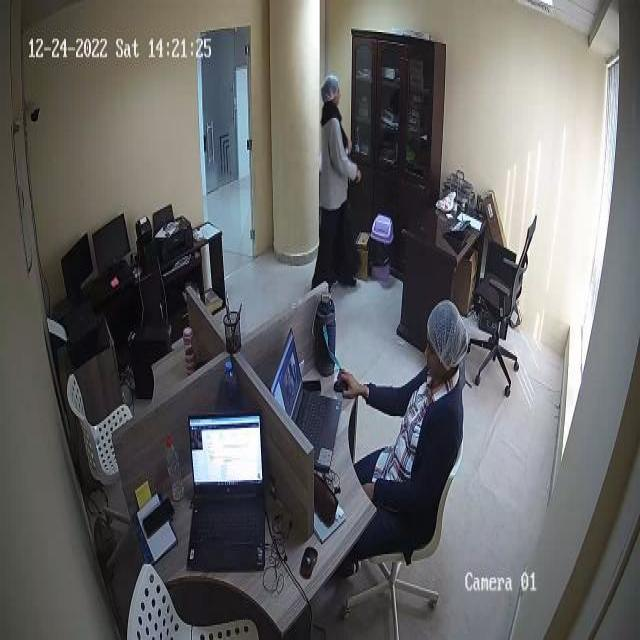hairnet: (429, 300, 470, 367), (320, 74, 340, 102)
